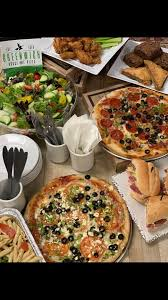Pizza: (25, 170, 131, 264), (91, 84, 168, 163)
